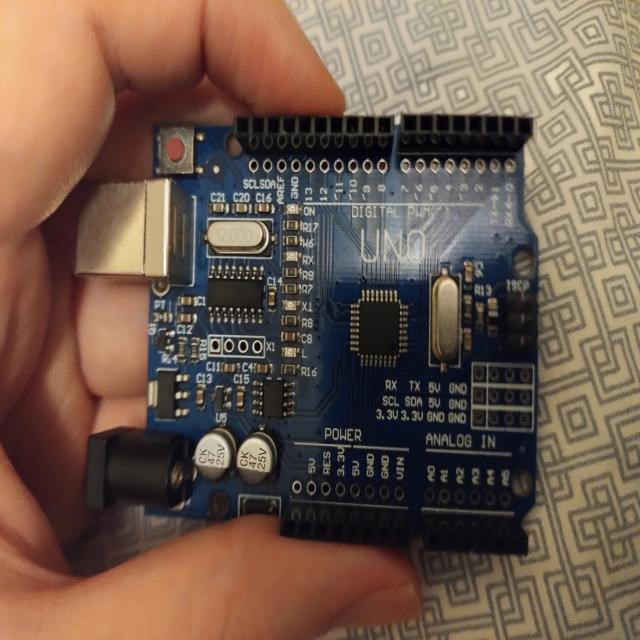arduino: (67, 111, 551, 560)
